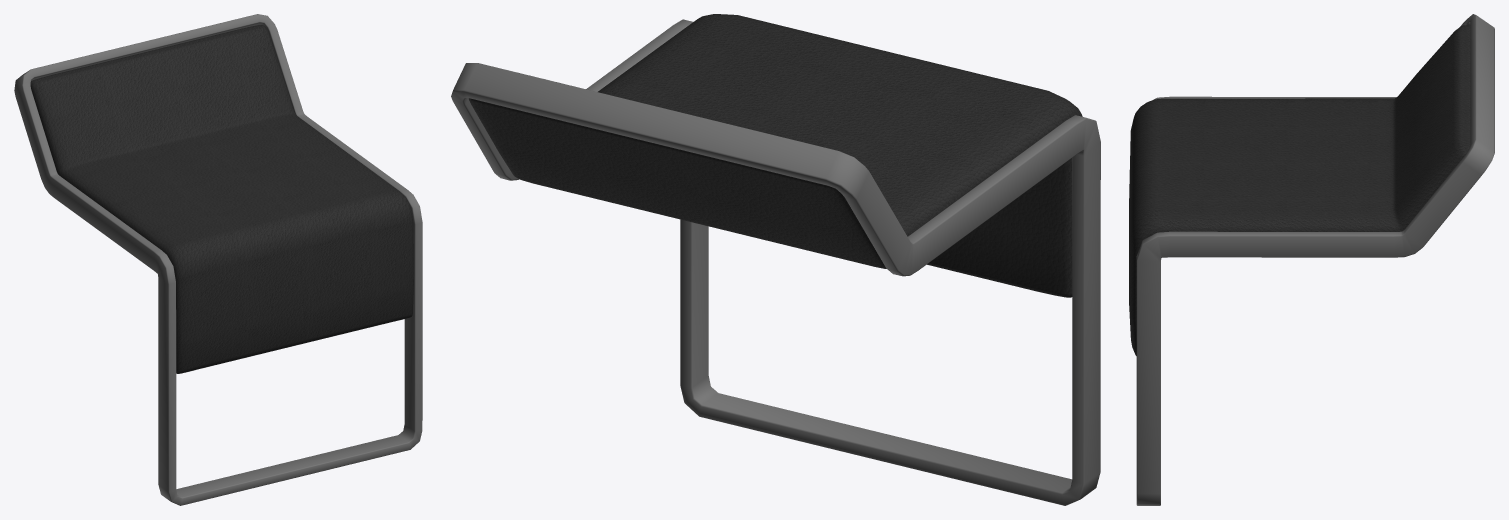
3 views of the same model, side by side, from view 1: azimuth 30°, elevation 25°; view 2: azimuth 150°, elevation 25°; view 3: azimuth 270°, elevation 25° (orthographic). The views are drawn at different scales.
Visible parts, largest first — view 1: part3:seat 1; view 2: part3:seat 1; view 3: part3:seat 1.
Part boxes in pixels (x1,y1,x2,y2): part3:seat 1: (14,14,422,505); part3:seat 1: (451,14,1100,505); part3:seat 1: (1129,14,1494,505).
Size of the model in its own units: 0.3505 by 0.4288 by 0.3887.
Materials: 2 (1 with a texture image).
